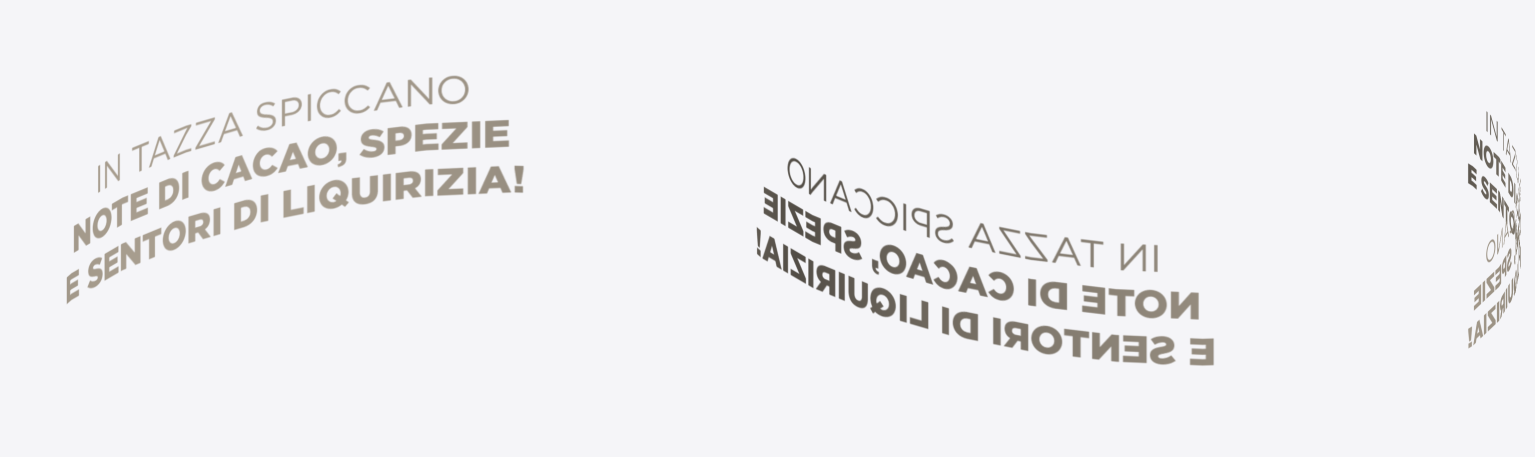
Rendered from India_WrongAnswer.glb.
3 views of the same model, side by side, from view 1: azimuth 30°, elevation 25°; view 2: azimuth 150°, elevation 25°; view 3: azimuth 270°, elevation 25° (orthographic). The views are drawn at different scales.
Visible parts, largest first — view 1: india_text; view 2: india_text; view 3: india_text.
Boxes of the visible parts, x1,y1,x2,y2 form: india_text: (66, 75, 523, 303); india_text: (756, 158, 1213, 365); india_text: (1468, 111, 1520, 348).
Bounding box in the file's own units: 1.53 × 0.5648 × 0.3409.
1 material, 1 textured.
